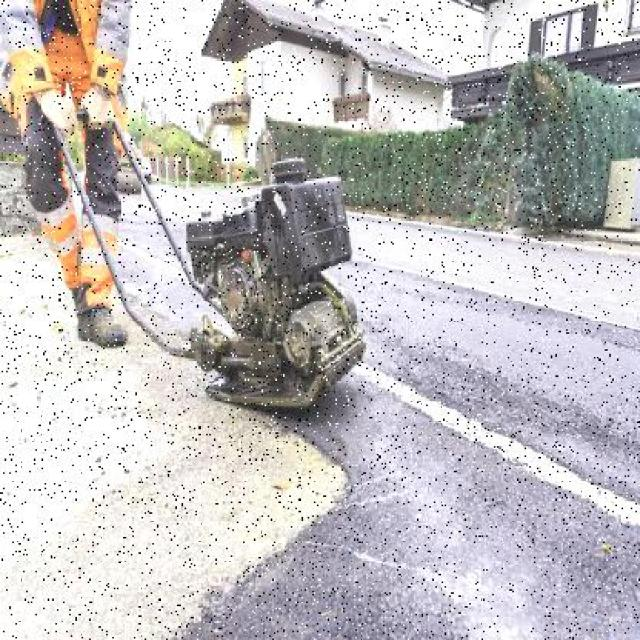shoes: (76, 304, 127, 350)
